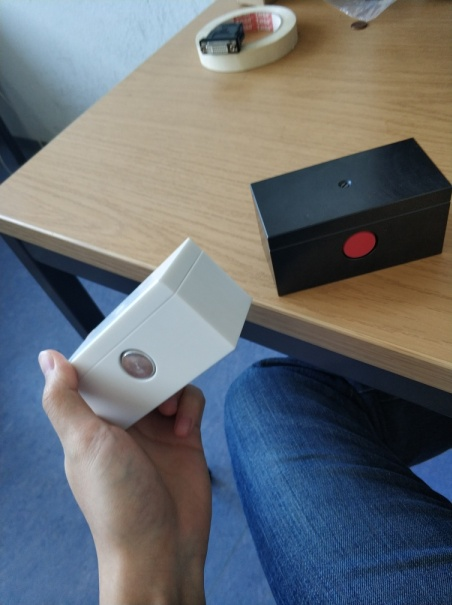black+black+red: (248, 136, 452, 299)
white+white+silver: (60, 234, 253, 432)
